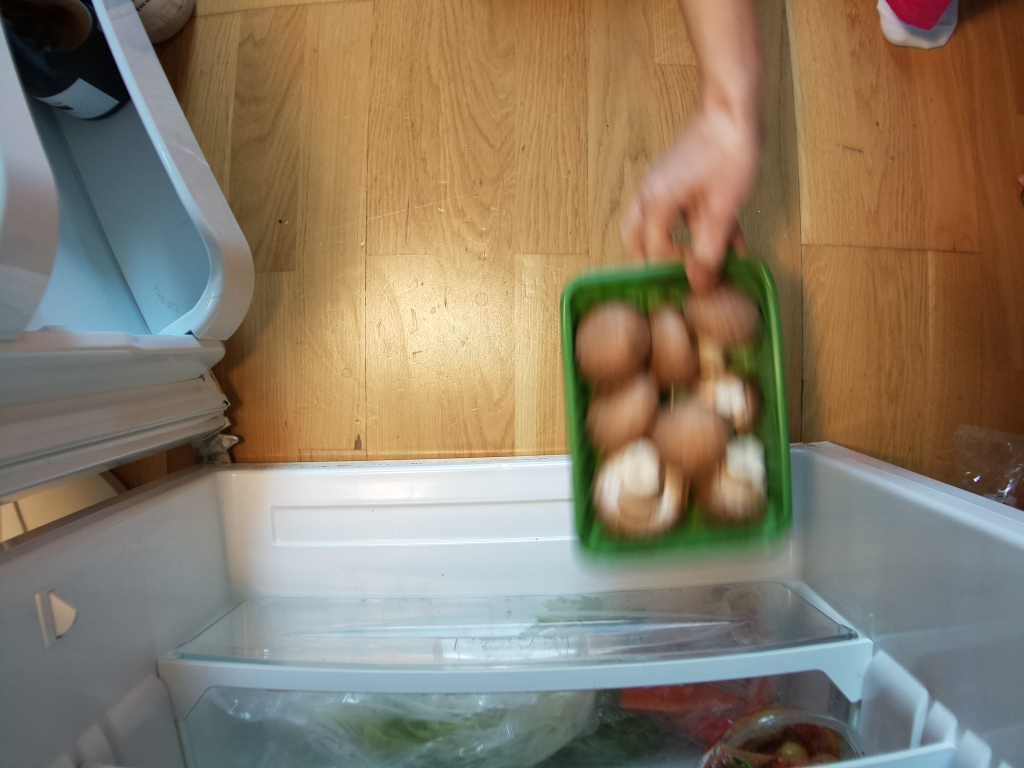mushrooms: (557, 263, 804, 576)
